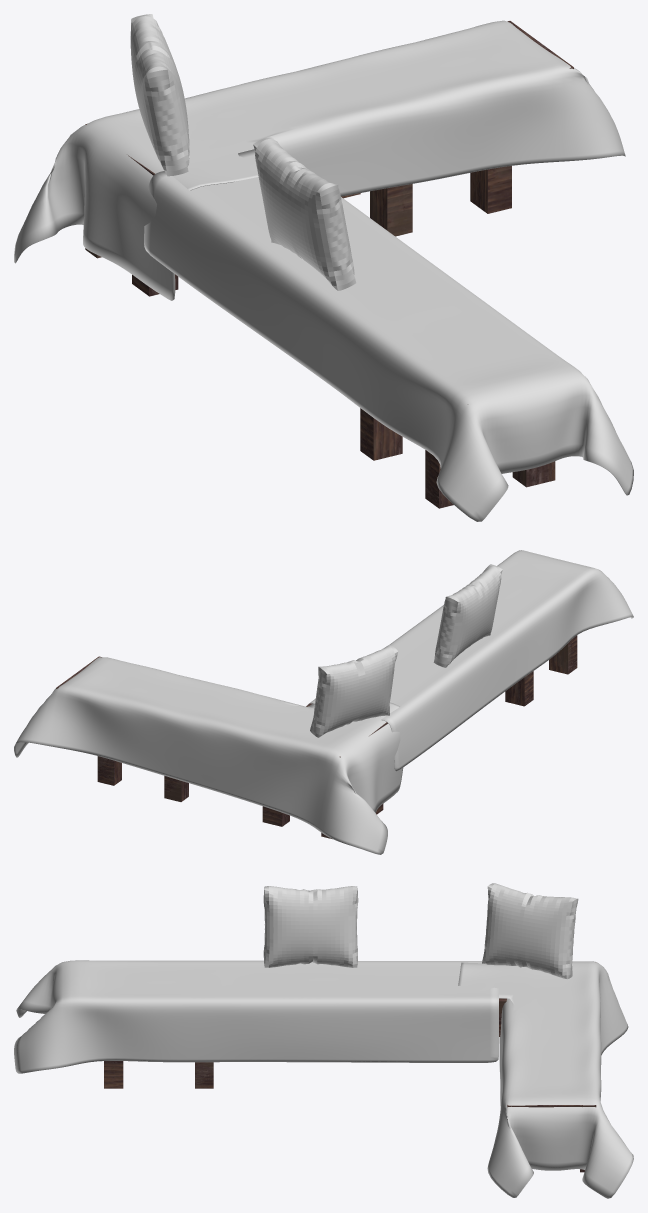
The model's file is odur_vulglavnici.fbx.
3 renders of one model, top to bottom at view 1: azimuth 30°, elevation 25°; view 2: azimuth 150°, elevation 25°; view 3: azimuth 270°, elevation 25°, orthographic. The views are drawn at different scales.
Parts seen in each view (by area): view 1: Plane.004, Cube.006, Cube.007, Cube.004; view 2: Plane.004, Cube.004, Cube.006, Cube.007; view 3: Plane.004, Cube.006, Cube.004, Cube.007.
Part boxes in pixels (left/top/right/bottom): Plane.004: left=14, top=20, right=633, bottom=521; Cube.006: left=253, top=136, right=356, bottom=290; Cube.007: left=85, top=21, right=573, bottom=508; Cube.004: left=130, top=14, right=189, bottom=176; Plane.004: left=14, top=550, right=633, bottom=854; Cube.004: left=310, top=644, right=398, bottom=737; Cube.006: left=433, top=564, right=502, bottom=667; Cube.007: left=56, top=635, right=577, bottom=838; Plane.004: left=14, top=960, right=633, bottom=1198; Cube.006: left=263, top=886, right=358, bottom=967; Cube.004: left=482, top=883, right=578, bottom=979; Cube.007: left=104, top=998, right=596, bottom=1172.
Size of the model in its own units: 248 by 103 by 349.
